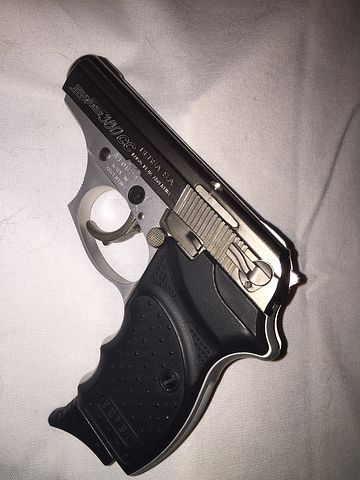gun: (53, 51, 309, 472)
